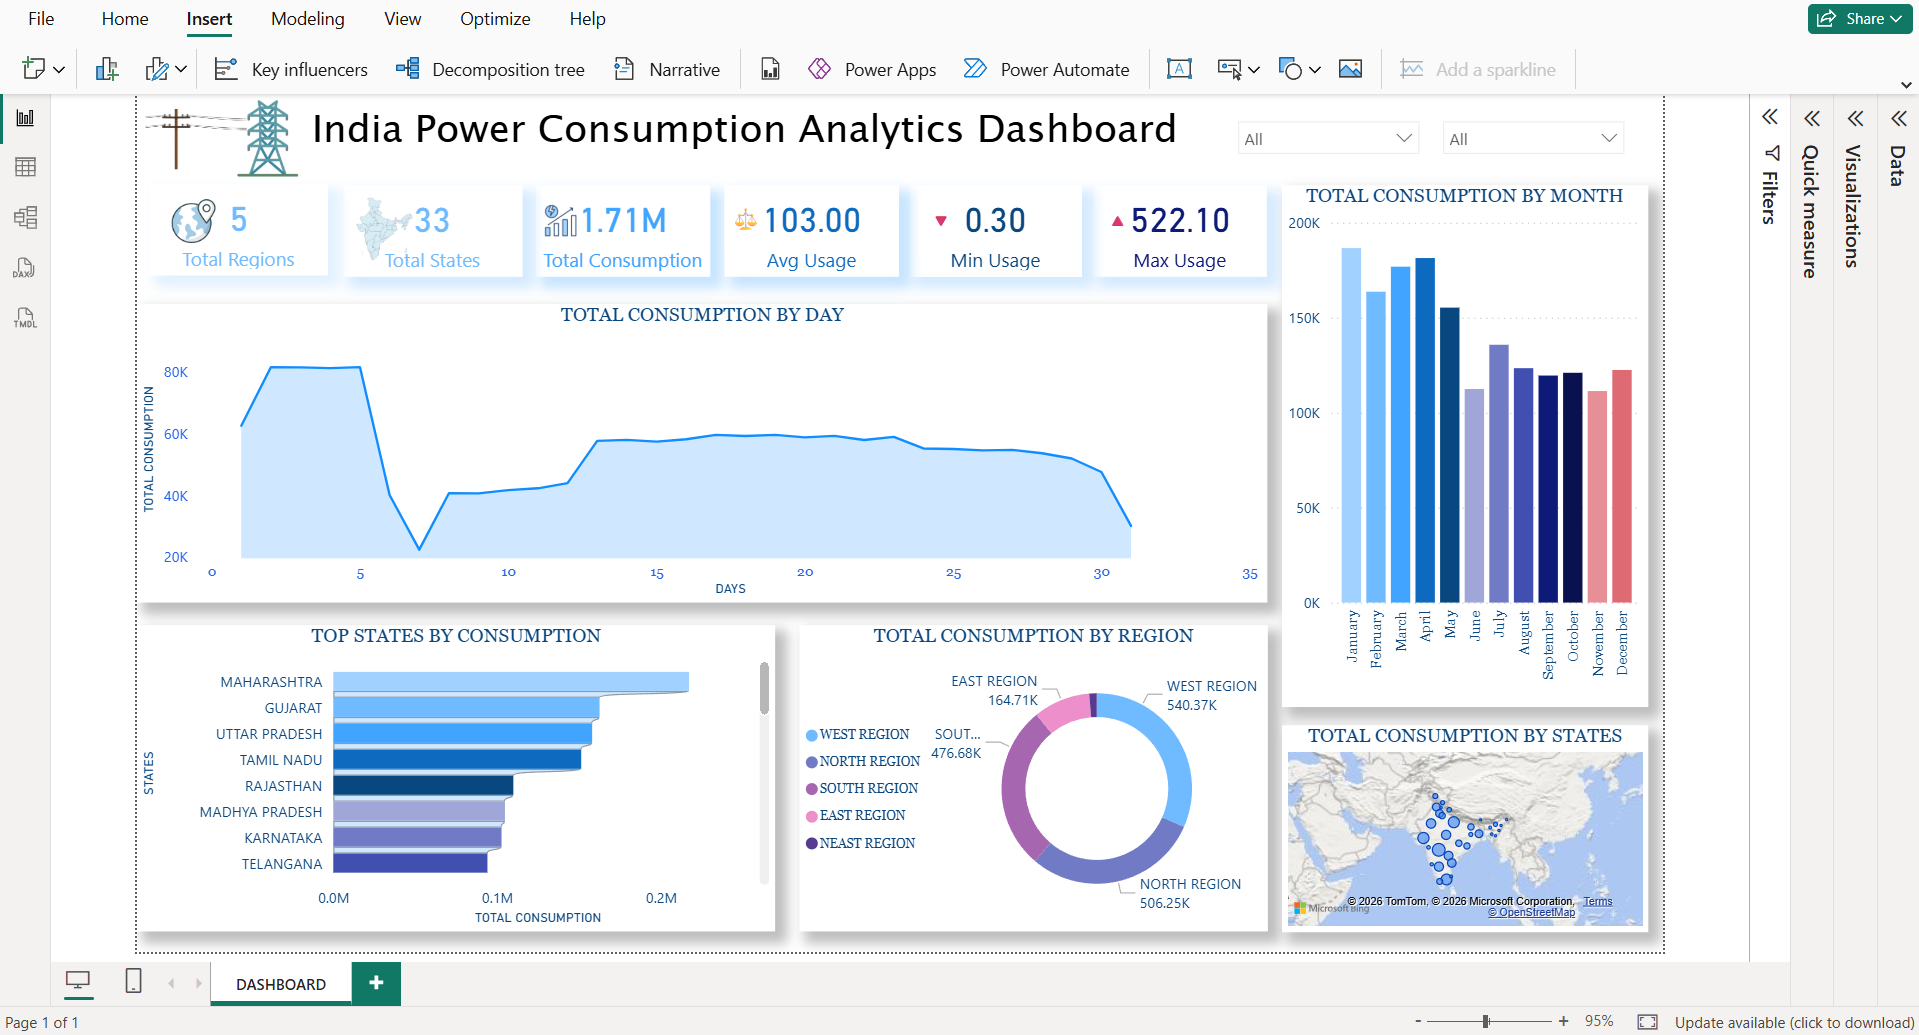

The dashboard page shown, as its layout file describes it:
{"tool":"powerbi","page":{"name":"DASHBOARD ","canvas":[1280,720],"ordinal":0},"visuals":[{"type":"card","fields":{"Values":["long_data_.Total Consumption"]},"box":[334.9,76.7,146.5,76.7],"z":0},{"type":"card","fields":{"Values":["long_data_.Max Usage"]},"box":[802.3,76.7,145.3,76.7],"z":1000},{"type":"card","fields":{"Values":["long_data_.Min Usage"]},"box":[647.9,76.5,144.7,76.5],"z":2000},{"type":"card","fields":{"Values":["long_data_.Total States"]},"box":[173.3,76.7,150,76.7],"z":3000},{"type":"card","fields":{"Values":["long_data_.Total Regions"]},"box":[10.5,75.5,149.9,76.5],"z":4000},{"type":"card","fields":{"Values":["long_data_.Avg Usage"]},"box":[493,76.7,146.5,76.7],"z":5000},{"type":"textbox","box":[0,0,1280,67.1],"z":6000},{"type":"lineChart","title":"TOTAL CONSUMPTION BY DAY","fields":{"Y":["long_data_.Total Consumption"],"Category":["long_data_.Dates.Variation.Date Hierarchy.Day"]},"box":[0,176.4,948.4,250.3],"z":7000},{"type":"barChart","title":"TOP STATES BY CONSUMPTION","fields":{"Category":["long_data_.States"],"Y":["long_data_.Total Consumption"]},"box":[0,445.7,535.4,256.6],"z":8000},{"type":"donutChart","title":"TOTAL CONSUMPTION BY REGION","fields":{"Y":["long_data_.Total Consumption"],"Category":["long_data_.Regions"]},"box":[555.5,445.7,392.9,256.6],"z":9000},{"type":"columnChart","title":"TOTAL CONSUMPTION BY MONTH","fields":{"Category":["long_data_.Dates.Variation.Date Hierarchy.Month"],"Y":["long_data_.Total Consumption"]},"box":[960.5,76.7,307,437.2],"z":10000},{"type":"map","title":"TOTAL CONSUMPTION BY STATES","fields":{"Size":["long_data_.Total Consumption"],"Category":["long_data_.States"]},"box":[960,529.1,307.3,173.2],"z":11000},{"type":"slicer","fields":{"Values":["long_data_.Dates.Variation.Date Hierarchy.Year"]},"box":[912.8,12.8,172.1,50],"z":12000},{"type":"slicer","fields":{"Values":["long_data_.Regions"]},"box":[1084.9,12.8,172.1,50],"z":13000},{"type":"image","box":[71.3,5.2,76.5,63.9],"z":14000},{"type":"image","box":[23.2,86.6,48.6,39.1],"z":15000},{"type":"image","box":[182.4,87,50.3,54.5],"z":16000},{"type":"image","box":[341.8,87,27.3,38.8],"z":17000},{"type":"image","box":[0,3.6,99.7,60],"z":18000},{"type":"textbox","box":[493.2,86.6,33.8,46.5],"z":19000},{"type":"textbox","box":[655.8,87.7,37,45.4],"z":20000},{"type":"textbox","box":[811.1,87.7,22.2,45.4],"z":21000}]}

Visuals, with their boxes on the page's 1280x720 design canvas (x1, y1, x2, y2). These are canvas units, not pixel positions in the 1919x1035 screenshot, which may show the page scaled, cropped or inside an application window:
card - long_data_.Total Consumption: [335, 77, 481, 153]
card - long_data_.Max Usage: [802, 77, 948, 153]
card - long_data_.Min Usage: [648, 76, 793, 153]
card - long_data_.Total States: [173, 77, 323, 153]
card - long_data_.Total Regions: [10, 76, 160, 152]
card - long_data_.Avg Usage: [493, 77, 640, 153]
textbox: [0, 0, 1280, 67]
"TOTAL CONSUMPTION BY DAY" lineChart: [0, 176, 948, 427]
"TOP STATES BY CONSUMPTION" barChart: [0, 446, 535, 702]
"TOTAL CONSUMPTION BY REGION" donutChart: [556, 446, 948, 702]
"TOTAL CONSUMPTION BY MONTH" columnChart: [960, 77, 1268, 514]
"TOTAL CONSUMPTION BY STATES" map: [960, 529, 1267, 702]
slicer - long_data_.Dates.Variation.Date Hierarchy.Year: [913, 13, 1085, 63]
slicer - long_data_.Regions: [1085, 13, 1257, 63]
image: [71, 5, 148, 69]
image: [23, 87, 72, 126]
image: [182, 87, 233, 142]
image: [342, 87, 369, 126]
image: [0, 4, 100, 64]
textbox: [493, 87, 527, 133]
textbox: [656, 88, 693, 133]
textbox: [811, 88, 833, 133]
